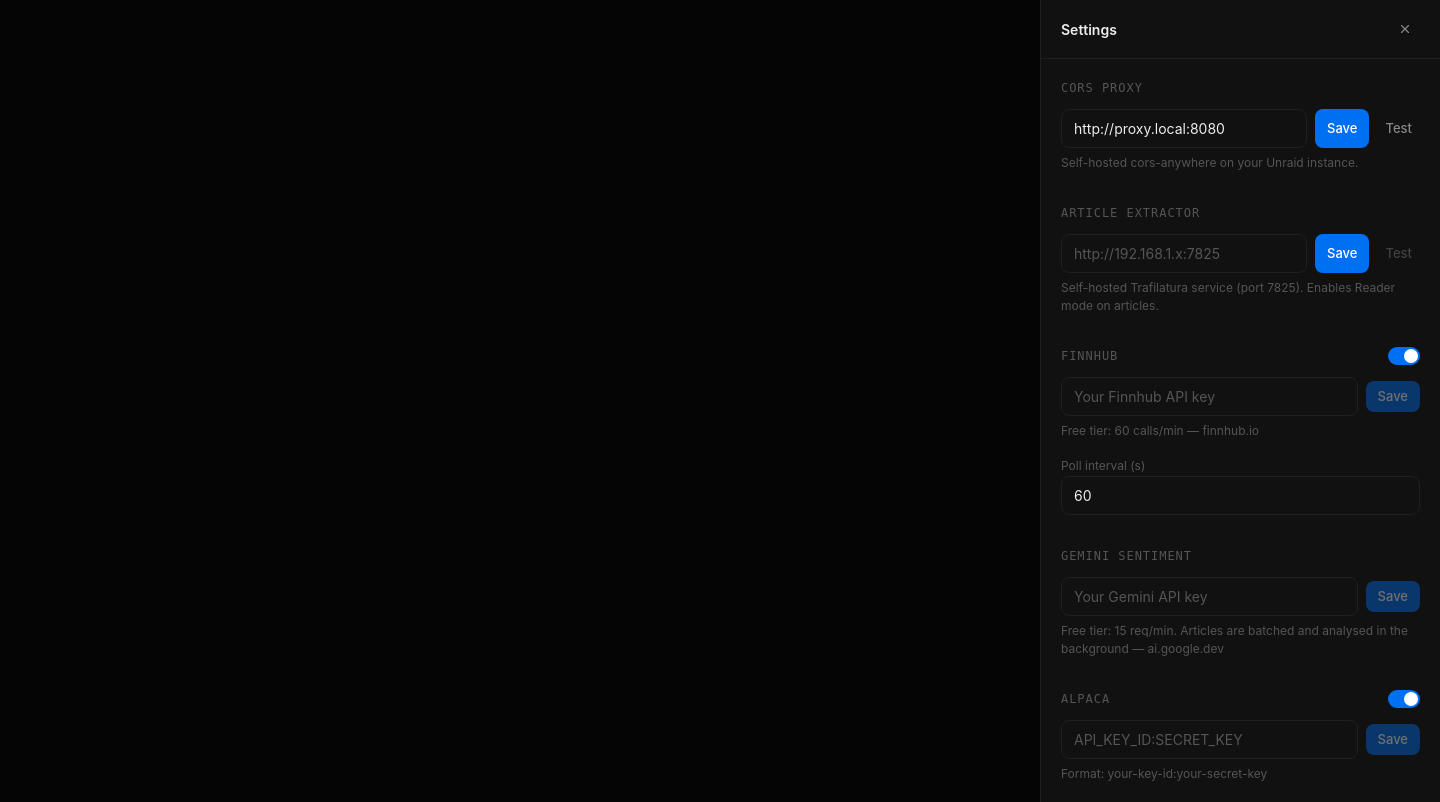
Test: SettingsPanel › CORS Proxy section › shows âœ— badge when proxy test returns non-ok response
Click the button with aria-label "Test CORS proxy" at (1399, 128), box [1378,109,1420,148]
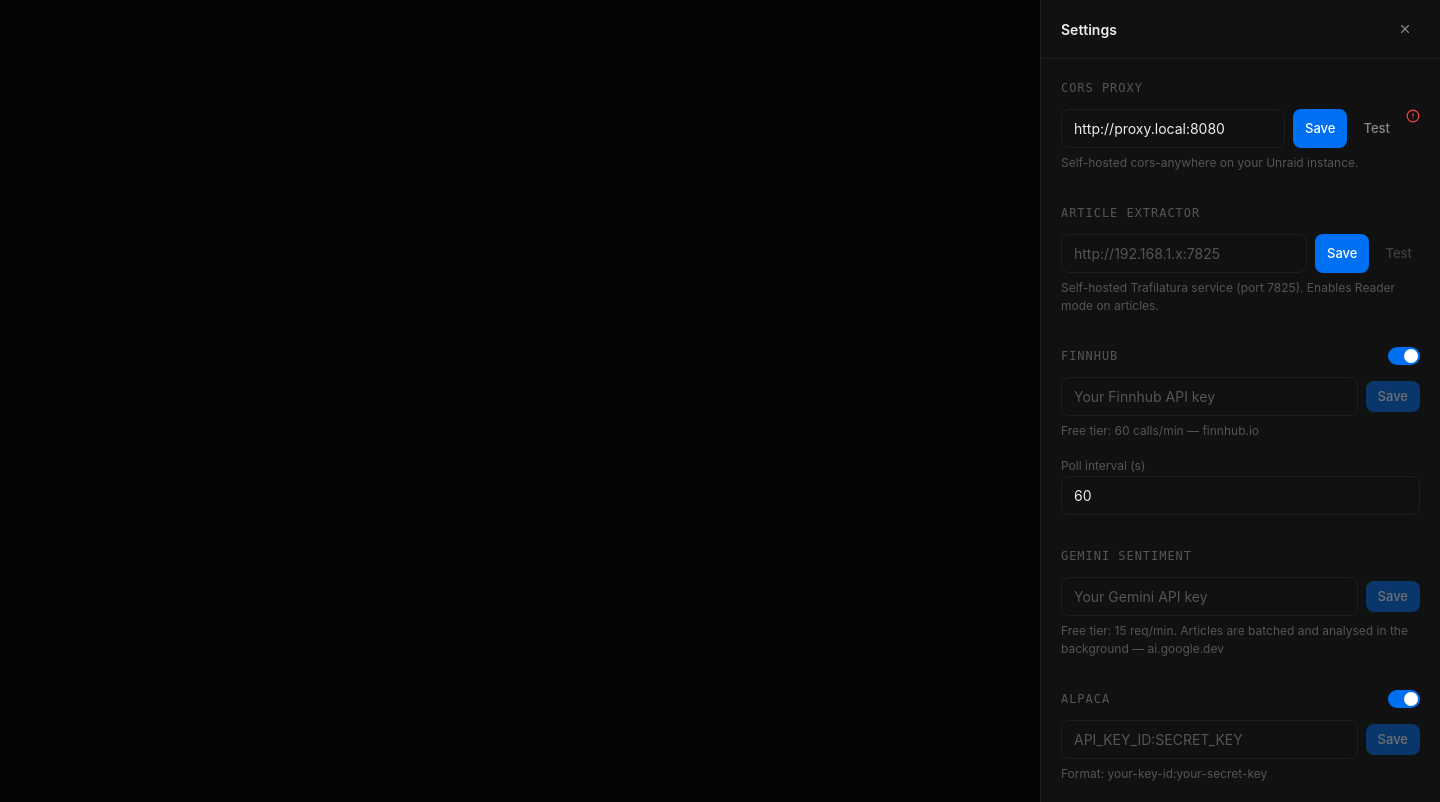
Result: the icon named "invalid" is shown at [1406,109,1420,123]
